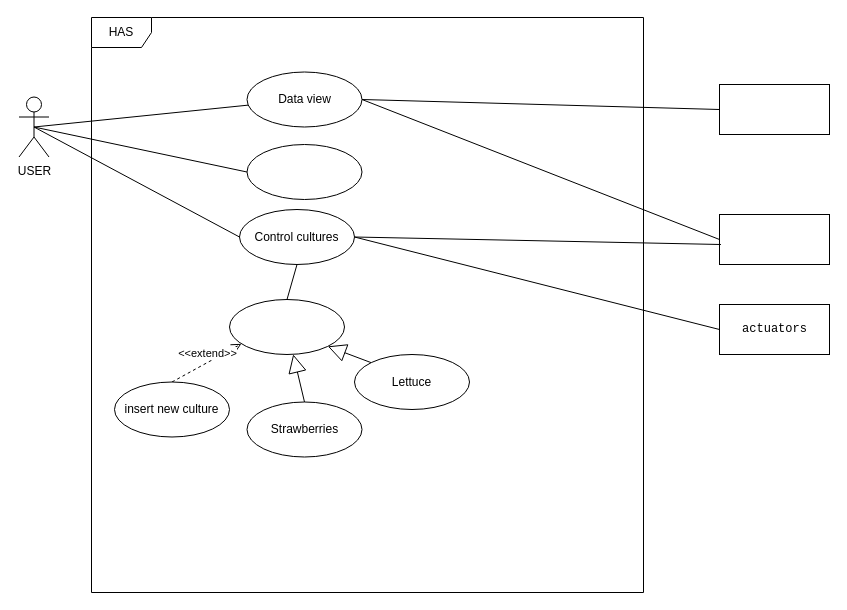
The diagram is 847 pixels wide and 610 high, and some of its shapes have lost their labels. The shapes that lost their labels are listed below. From the top down, each one's centre as x and y in pixels, then its label:
At point (774, 109): "DB".
At point (304, 172): "energy efficiency control".
At point (774, 239): "Sensors".
At point (286, 326): "Define rules".
